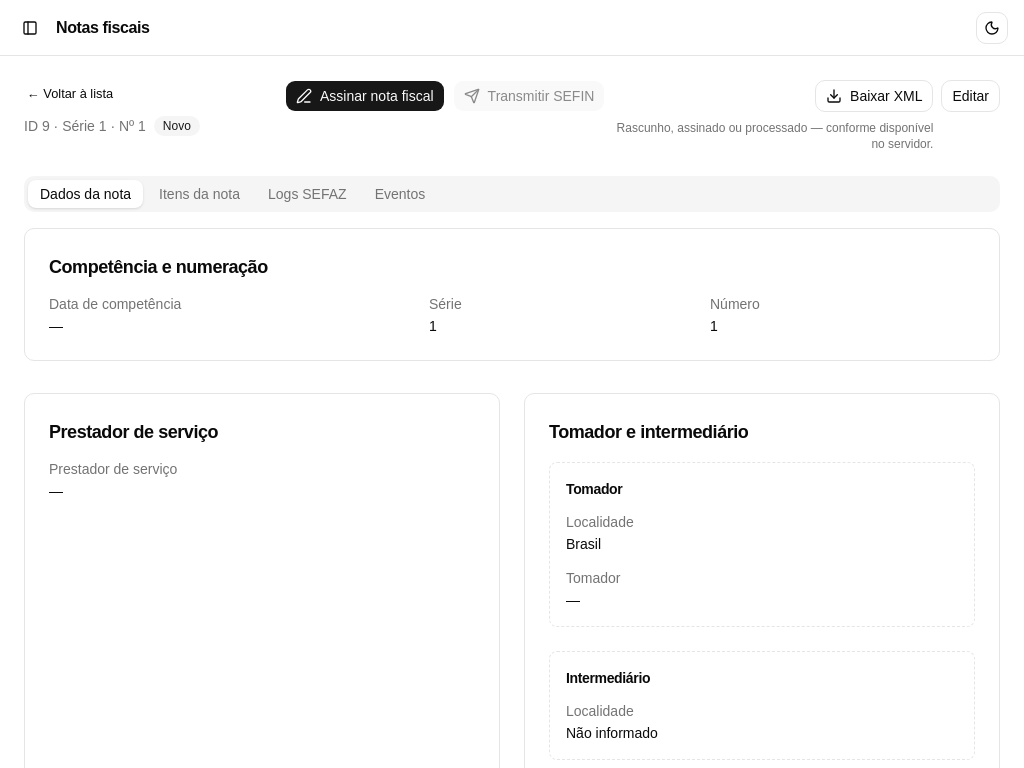
Resource pages › opens nested itens on documento show
The width and height of the screenshot is (1024, 768).
Click the tab "Itens da nota": click(200, 194) [147, 180, 252, 208]
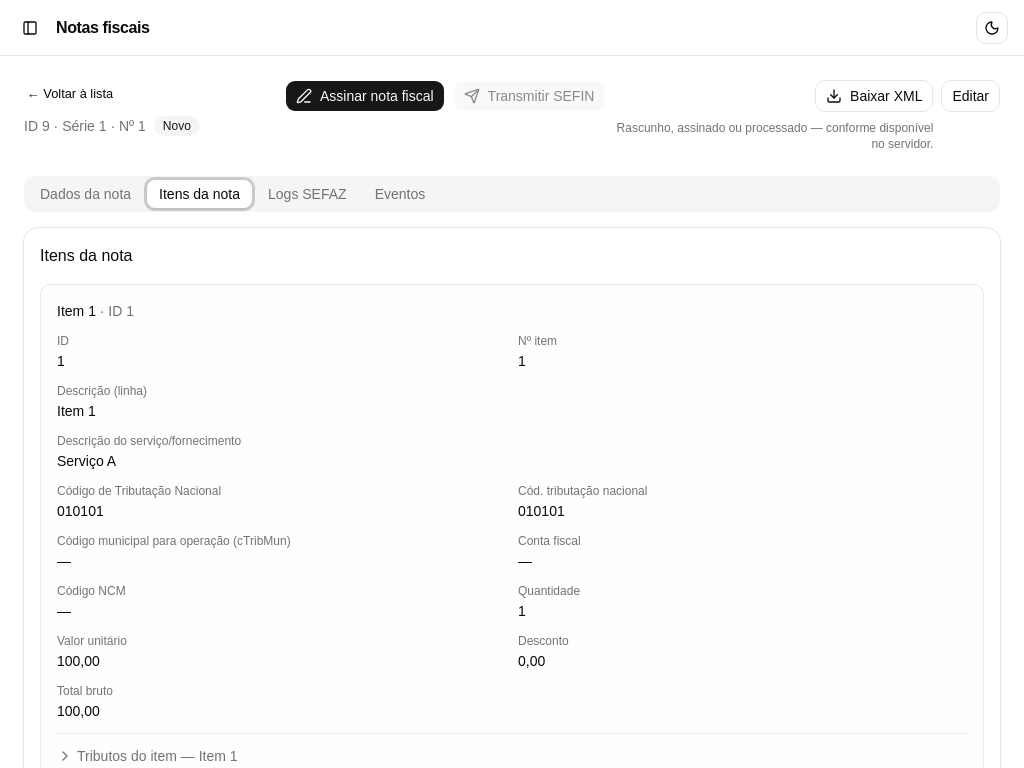
Expected: the button "Baixar XML" is enabled, [815, 80, 934, 112]
Expected: the text "Serviço A" is shown, [57, 453, 116, 469]
Expected: the text "Cód. tributação nacional" is shown, [518, 484, 647, 498]
